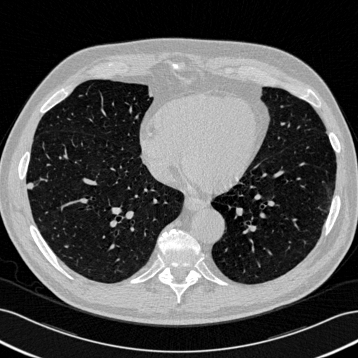nodule: (26, 181, 34, 189)
